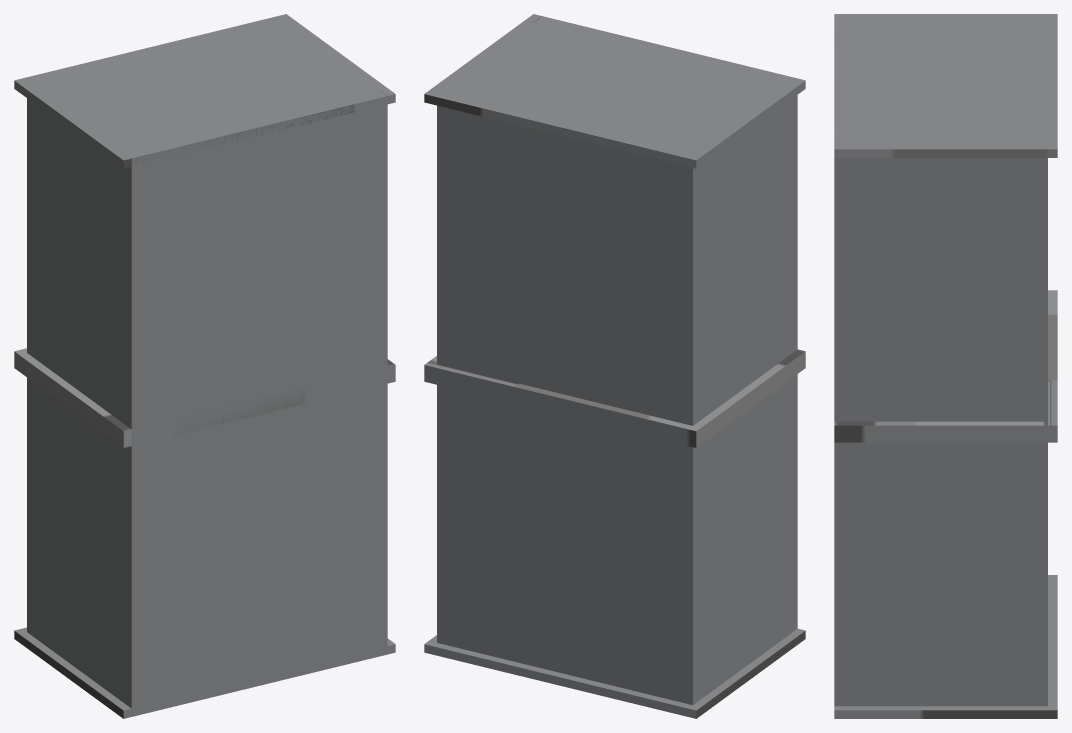
The picture shows the model from 3 angles, left to right: view 1: azimuth 30°, elevation 25°; view 2: azimuth 150°, elevation 25°; view 3: azimuth 270°, elevation 25°; orthographic projection.
Bounding box in the file's own units: 0.51 × 1 × 0.355.
